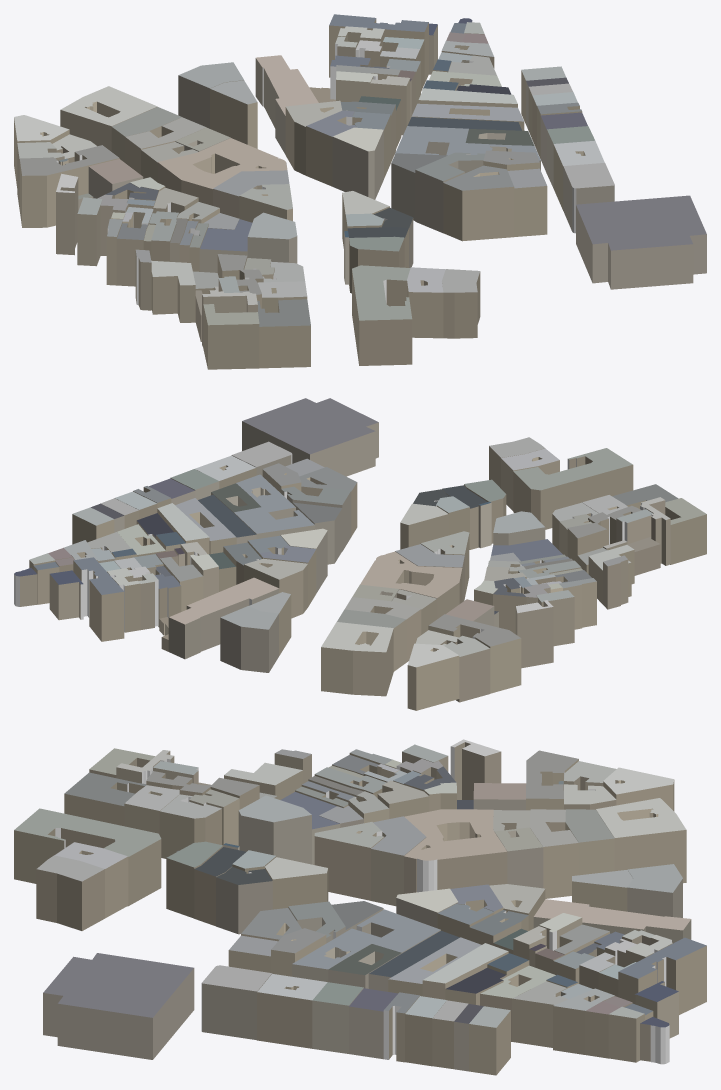
3 renders of one model, top to bottom at view 1: azimuth 30°, elevation 25°; view 2: azimuth 150°, elevation 25°; view 3: azimuth 270°, elevation 25°, orthographic. The views are drawn at different scales.
Visible parts, largest first — view 1: tuile; view 2: tuile; view 3: tuile.
Part boxes in pixels (bbox=[...]): tuile: bbox=[14, 14, 706, 369]; tuile: bbox=[14, 398, 706, 710]; tuile: bbox=[14, 739, 706, 1075].
Size of the model in its own units: 269 by 30.36 by 281.
